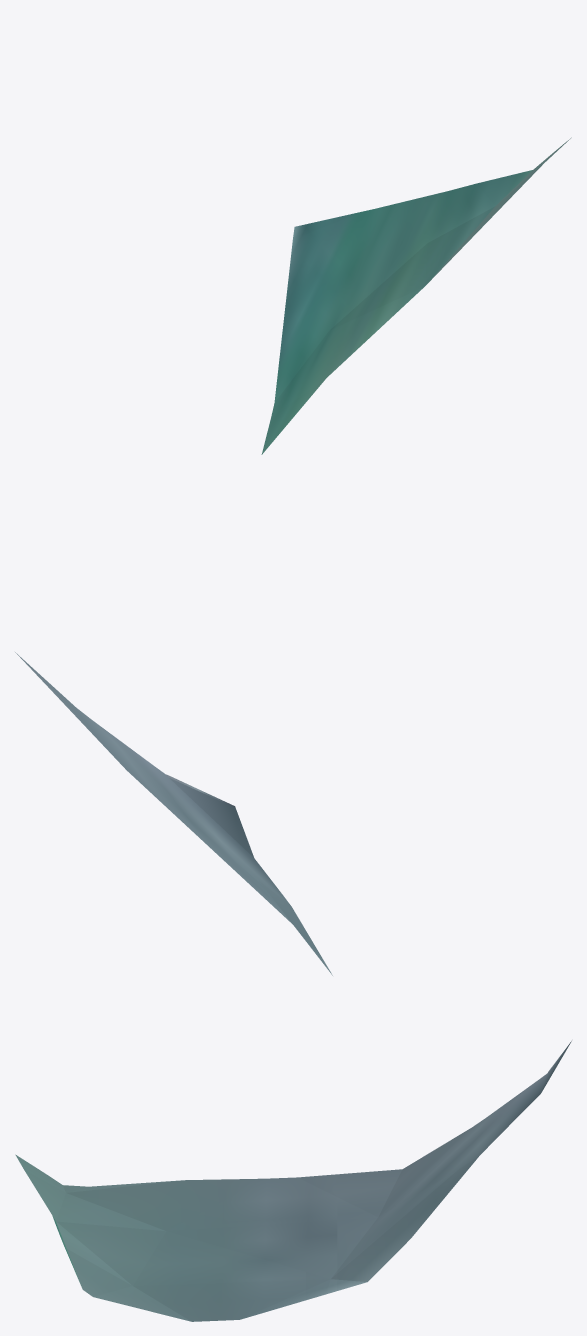
Rendered from Tile_+008_+007_L19_00500.glb.
3 views of the same model, one above another, from view 1: azimuth 30°, elevation 25°; view 2: azimuth 150°, elevation 25°; view 3: azimuth 270°, elevation 25° (orthographic). The views are drawn at different scales.
Parts seen in each view (by area): view 1: rtc; view 2: rtc; view 3: rtc.
Part boxes in pixels (x1=…): rtc: x1=261, y1=137, x2=571, y2=454; rtc: x1=15, y1=652, x2=332, y2=975; rtc: x1=15, y1=1041, x2=571, y2=1321.
Bounding box in the file's own units: 5.6 × 5 × 8.96.
1 material, 1 textured.
